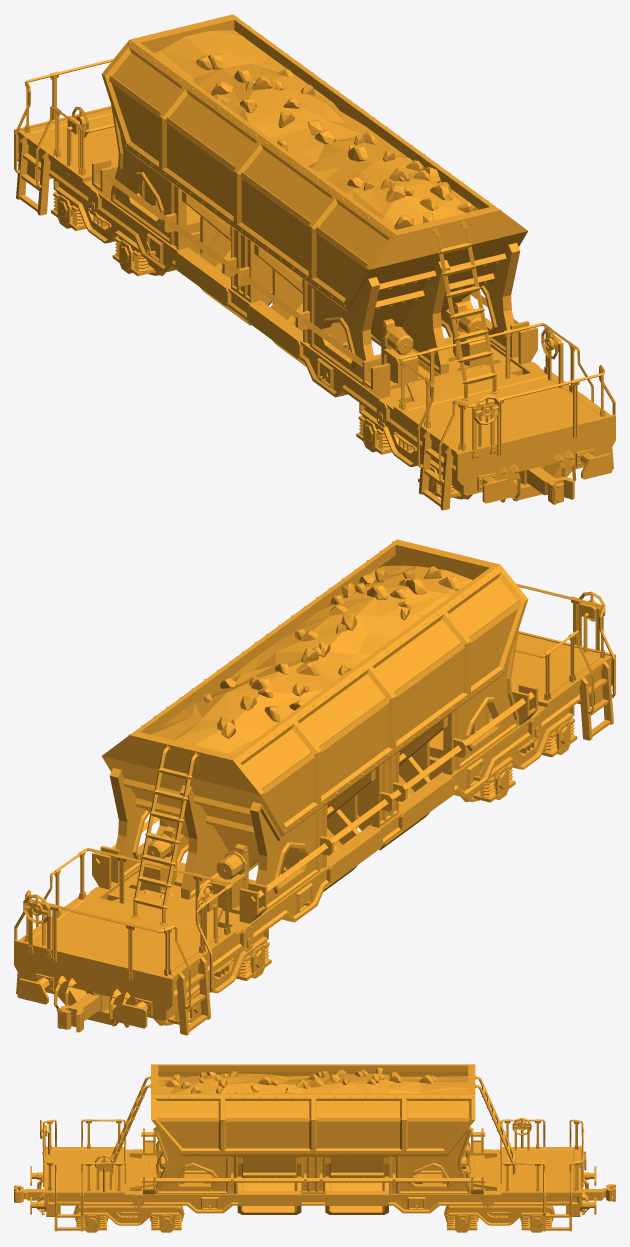
The model's file is SM_Train_Wagon_Cargo_B_Coal.fbx.
3 renders of one model, top to bottom at view 1: azimuth 30°, elevation 25°; view 2: azimuth 150°, elevation 25°; view 3: azimuth 270°, elevation 25°, orthographic. The views are drawn at different scales.
Parts seen in each view (by area): view 1: SM_Train_Wagon_Cargo_B_Coal_Base, SM_Train_Wagon_Cargo_B_Coal_Base_Chassis_B, SM_Train_Wagon_Cargo_B_Coal_Base_Chassis_F, SM_Train_Wagon_Cargo_B_Coal_Base_Joint_F; view 2: SM_Train_Wagon_Cargo_B_Coal_Base, SM_Train_Wagon_Cargo_B_Coal_Base_Chassis_F, SM_Train_Wagon_Cargo_B_Coal_Base_Chassis_B, SM_Train_Wagon_Cargo_B_Coal_Base_Joint_B; view 3: SM_Train_Wagon_Cargo_B_Coal_Base, SM_Train_Wagon_Cargo_B_Coal_Base_Chassis_F, SM_Train_Wagon_Cargo_B_Coal_Base_Chassis_B, SM_Train_Wagon_Cargo_B_Coal_Base_Joint_B, SM_Train_Wagon_Cargo_B_Coal_Base_Joint_F.
Boxes of the visible parts, bbox=[...] form: SM_Train_Wagon_Cargo_B_Coal_Base: bbox=[14, 14, 615, 510]; SM_Train_Wagon_Cargo_B_Coal_Base_Chassis_B: bbox=[51, 179, 200, 276]; SM_Train_Wagon_Cargo_B_Coal_Base_Chassis_F: bbox=[356, 403, 460, 497]; SM_Train_Wagon_Cargo_B_Coal_Base_Joint_F: bbox=[516, 467, 574, 504]; SM_Train_Wagon_Cargo_B_Coal_Base: bbox=[14, 539, 615, 1035]; SM_Train_Wagon_Cargo_B_Coal_Base_Chassis_F: bbox=[429, 705, 577, 802]; SM_Train_Wagon_Cargo_B_Coal_Base_Chassis_B: bbox=[168, 929, 271, 1024]; SM_Train_Wagon_Cargo_B_Coal_Base_Joint_B: bbox=[57, 991, 110, 1032]; SM_Train_Wagon_Cargo_B_Coal_Base: bbox=[30, 1064, 596, 1231]; SM_Train_Wagon_Cargo_B_Coal_Base_Chassis_F: bbox=[76, 1205, 182, 1232]; SM_Train_Wagon_Cargo_B_Coal_Base_Chassis_B: bbox=[446, 1205, 551, 1232]; SM_Train_Wagon_Cargo_B_Coal_Base_Joint_B: bbox=[582, 1184, 615, 1201]; SM_Train_Wagon_Cargo_B_Coal_Base_Joint_F: bbox=[14, 1185, 44, 1202].
Size of the model in its own units: 3.31 by 4.28 by 16.11.
